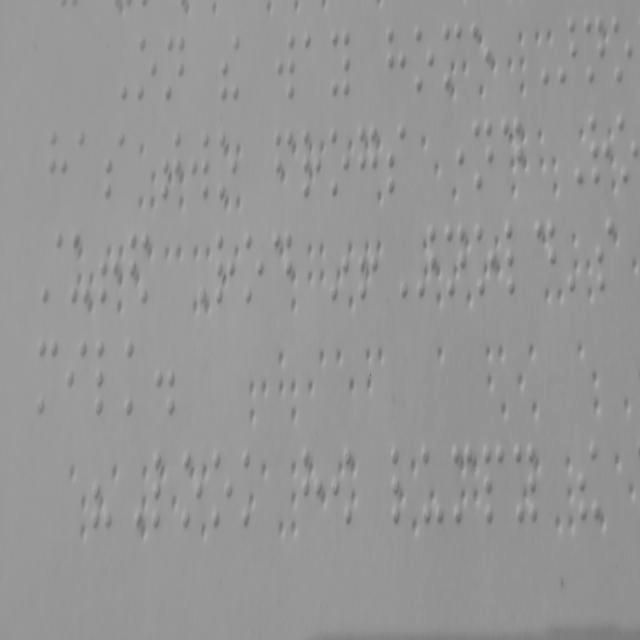braiile: (390, 440, 418, 540), (298, 440, 324, 544), (479, 434, 506, 534), (511, 436, 539, 531), (92, 333, 119, 428), (208, 443, 235, 536), (442, 213, 468, 304), (238, 444, 264, 534), (450, 434, 476, 524), (471, 216, 497, 302), (502, 217, 528, 302), (500, 110, 524, 202), (150, 442, 173, 537), (614, 105, 640, 189), (242, 225, 266, 316), (180, 443, 204, 533), (587, 104, 612, 190), (268, 228, 292, 317), (74, 120, 97, 212), (188, 123, 212, 210), (421, 441, 444, 531), (159, 125, 183, 211), (470, 112, 494, 198), (64, 334, 88, 420), (103, 125, 127, 208), (70, 224, 92, 314), (215, 224, 237, 314), (595, 217, 618, 302), (216, 125, 240, 206), (300, 118, 322, 206), (386, 114, 408, 202), (37, 329, 59, 417), (273, 118, 296, 202), (123, 338, 146, 422), (384, 26, 408, 106), (582, 11, 606, 90), (612, 11, 634, 94), (46, 125, 68, 208), (134, 29, 158, 105), (412, 20, 435, 99), (328, 123, 350, 205), (356, 123, 378, 204), (274, 28, 296, 108), (470, 18, 492, 97), (330, 24, 352, 102), (536, 219, 556, 303), (163, 32, 184, 108), (442, 20, 464, 91), (303, 29, 323, 105)
